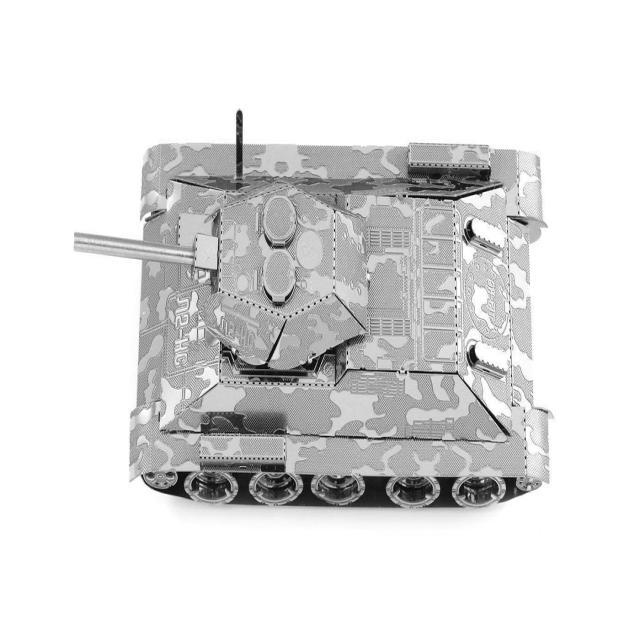MIL_MBT: (128, 125, 555, 532)
